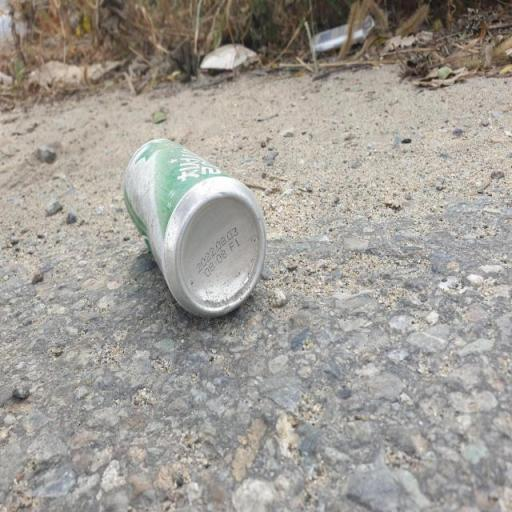metal: (117, 128, 285, 330)
